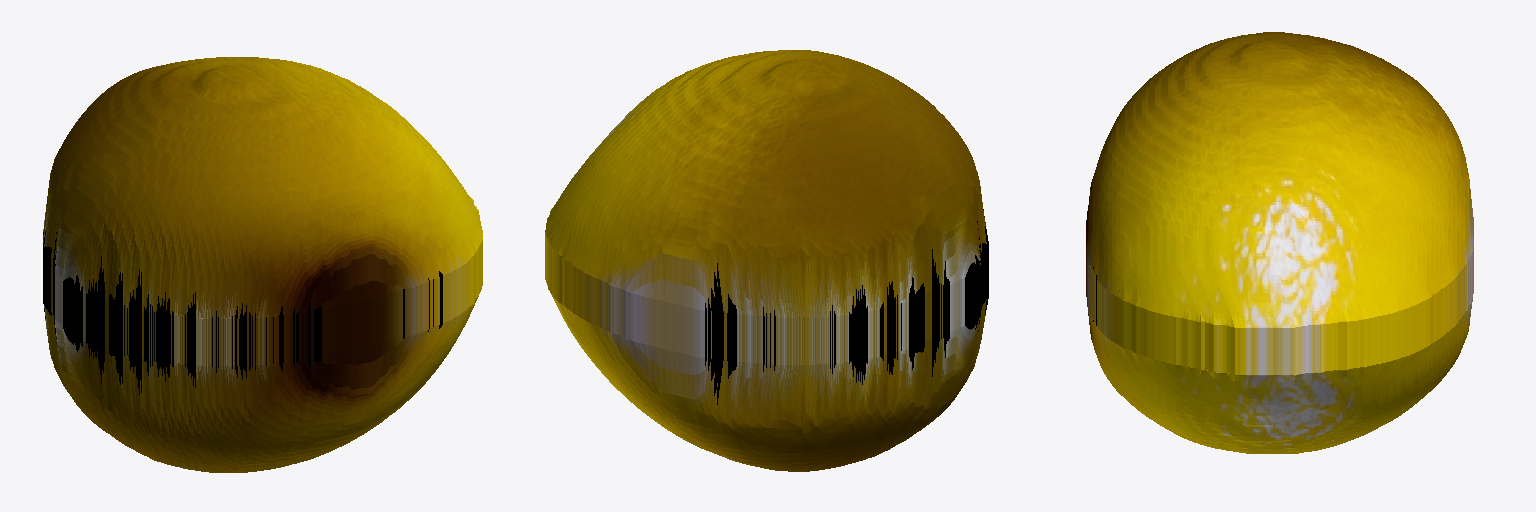
3 renders of one model, left to right at view 1: azimuth 30°, elevation 25°; view 2: azimuth 150°, elevation 25°; view 3: azimuth 270°, elevation 25°, orthographic.
Parts seen in each view (by area): view 1: Grid; view 2: Grid; view 3: Grid.
Boxes of the visible parts, box(x1,y1,x2,y2) form: Grid: box(43, 57, 482, 472); Grid: box(545, 50, 988, 471); Grid: box(1086, 32, 1473, 453).
Size of the model in its own units: 1.73 by 1.6 by 1.48.
1 materials, 1 textured.